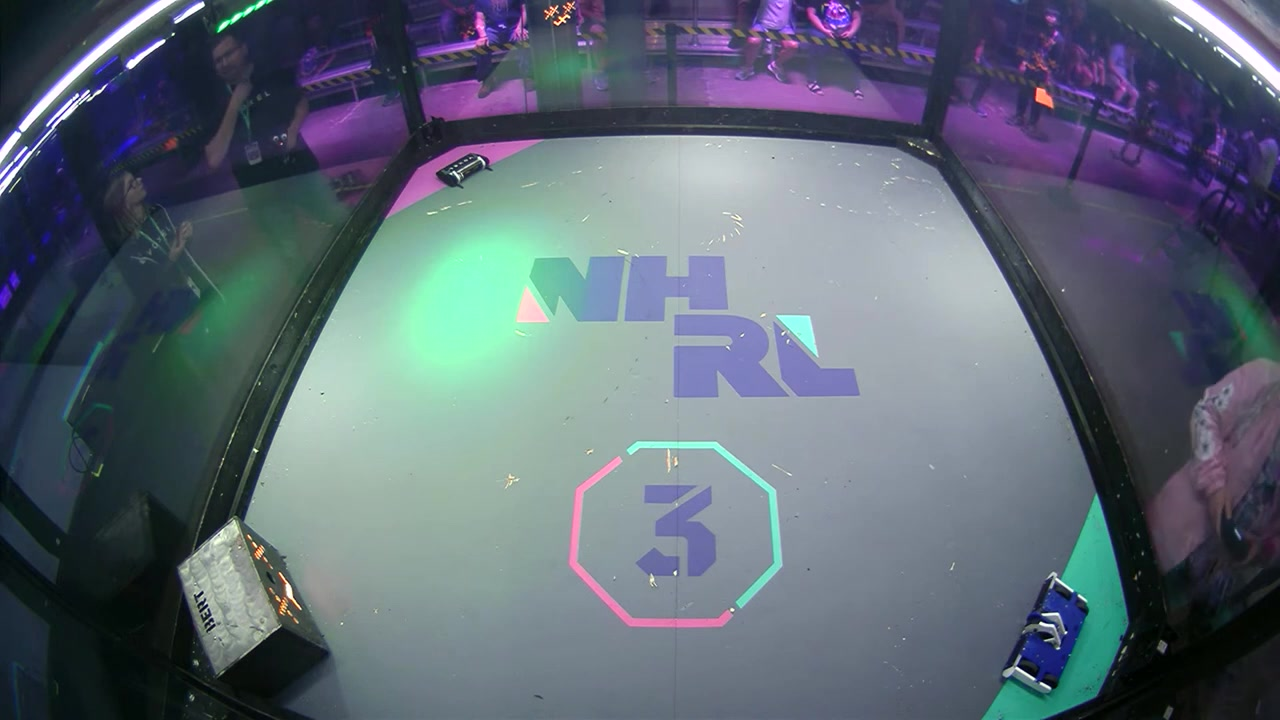combatbot: (1000, 571, 1090, 696), (435, 154, 495, 187)
housebot: (175, 517, 330, 694)
